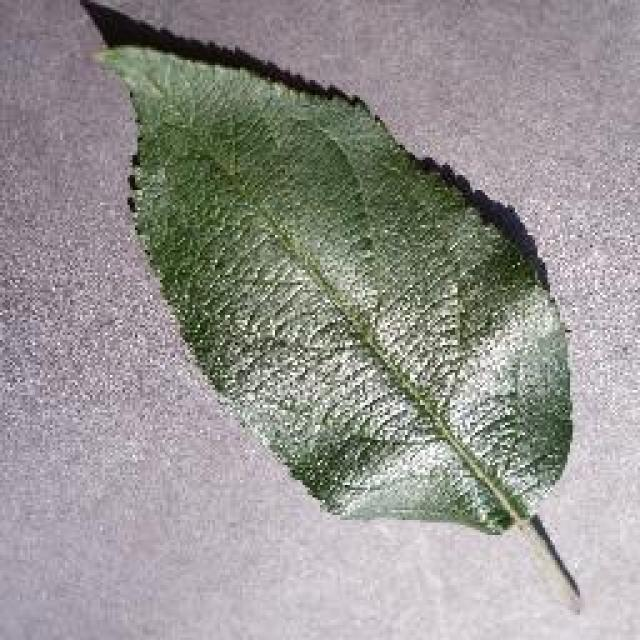apple healthy: (75, 0, 583, 610)
